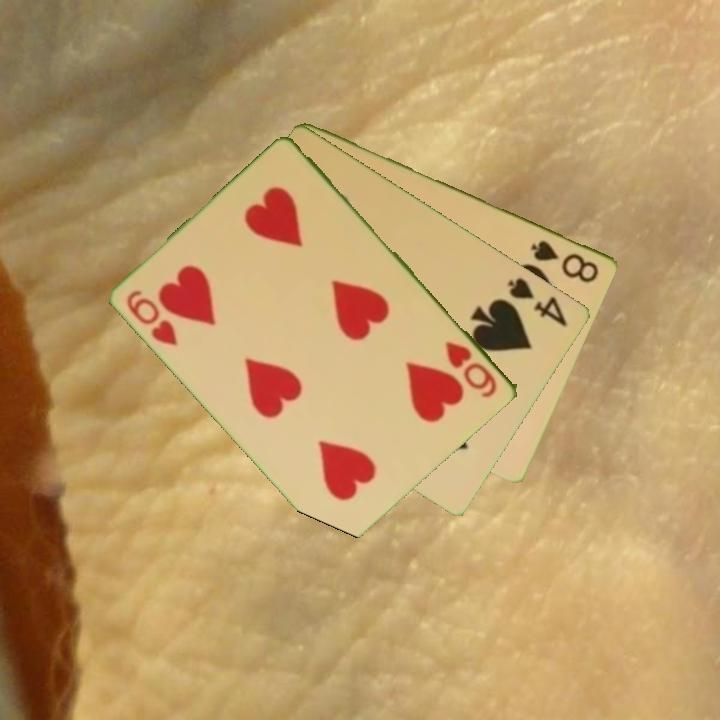4s: (504, 273, 571, 329)
6h: (442, 337, 501, 401), (123, 286, 181, 349)
8s: (527, 236, 602, 286)
